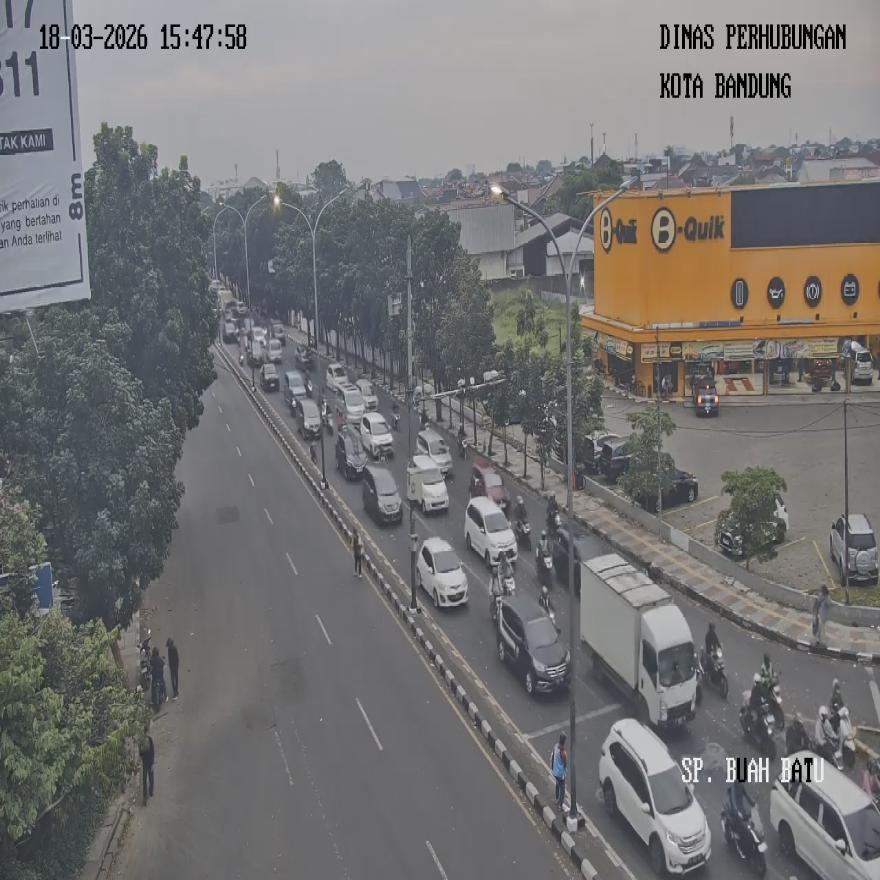Manusia: (552, 733, 567, 808), (140, 732, 155, 803), (814, 584, 830, 644), (166, 637, 179, 698), (151, 647, 166, 699), (353, 529, 363, 577)
Mobil: (599, 719, 711, 875), (771, 750, 879, 879), (497, 595, 571, 693), (464, 496, 518, 566), (417, 537, 468, 606), (362, 463, 402, 523), (411, 453, 450, 510), (470, 460, 509, 512), (417, 428, 452, 478), (360, 412, 394, 460), (335, 428, 366, 479), (337, 384, 364, 427), (296, 398, 320, 440), (283, 370, 305, 411), (325, 362, 348, 391), (355, 379, 377, 409), (294, 343, 314, 376), (260, 363, 279, 390), (248, 339, 263, 365), (267, 337, 282, 362), (272, 320, 286, 345), (223, 320, 236, 342), (252, 325, 265, 343)
Motor: (720, 780, 765, 879), (737, 673, 773, 757), (828, 678, 858, 767), (701, 623, 727, 697), (757, 653, 782, 727), (810, 733, 845, 773), (511, 495, 531, 548), (536, 529, 552, 589), (784, 714, 807, 754), (498, 552, 517, 600), (863, 757, 879, 807), (489, 570, 503, 622), (538, 585, 555, 623), (546, 495, 561, 532), (457, 424, 468, 457), (305, 372, 313, 397), (392, 402, 399, 429), (328, 405, 334, 435), (322, 399, 327, 425), (239, 351, 244, 365), (509, 605, 509, 606)
Truk ringan: (576, 552, 692, 727)
